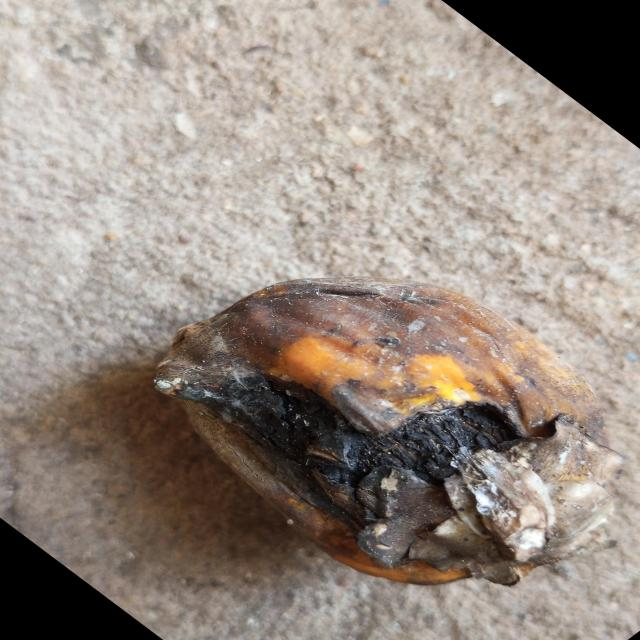damaged: (154, 280, 622, 586)
